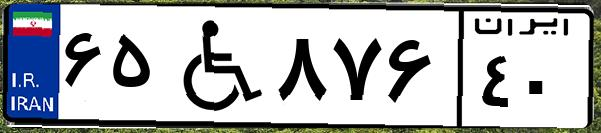0: (525, 38, 570, 115)
4: (475, 38, 525, 113)
5: (110, 28, 158, 98)
6: (385, 28, 445, 110), (57, 26, 110, 100)
7: (330, 28, 385, 110)
8: (270, 28, 330, 110)
ژ (معلولین و جانبازان): (158, 12, 270, 120)
